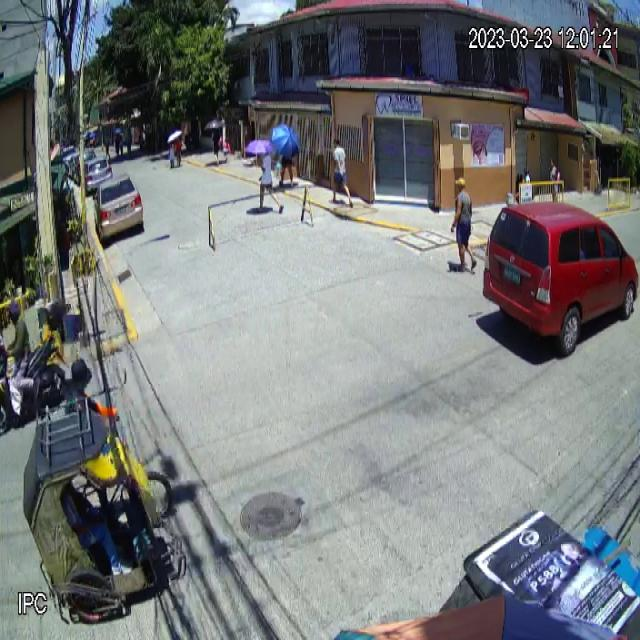Car: (481, 201, 640, 360)
